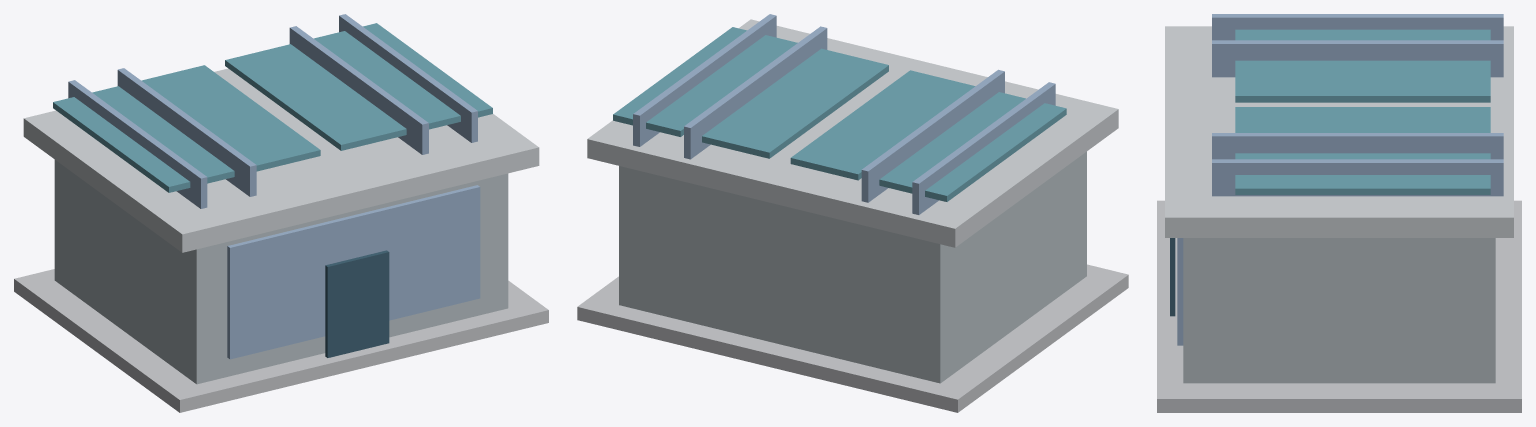
The model's file is solar-lab.glb.
3 renders of one model, left to right at view 1: azimuth 30°, elevation 25°; view 2: azimuth 150°, elevation 25°; view 3: azimuth 270°, elevation 25°, orthographic. The views are drawn at different scales.
Visible parts, largest first — view 1: Facade_2, Roof_5, Glass_3, Foundation_1, SolarPanel_12, SolarPanel_11, SolarPanel_10, Door_4, SolarPanel_13, RoofFins_7, RoofFins_8, RoofFins_6 (+1 smaller); view 2: Facade_2, Roof_5, Foundation_1, SolarPanel_12, SolarPanel_11, SolarPanel_10, SolarPanel_13, RoofFins_7, RoofFins_8, RoofFins_6, RoofFins_9; view 3: Facade_2, Roof_5, Foundation_1, SolarPanel_11, SolarPanel_13, RoofFins_7, SolarPanel_12, RoofFins_8, RoofFins_9, RoofFins_6, SolarPanel_10, Glass_3 (+1 smaller).
Part boxes in pixels (bbox=[...]): Facade_2: bbox=[54, 160, 508, 384]; Roof_5: bbox=[23, 68, 539, 252]; Glass_3: bbox=[227, 185, 480, 359]; Foundation_1: bbox=[14, 269, 548, 412]; SolarPanel_12: bbox=[225, 44, 406, 150]; SolarPanel_11: bbox=[141, 65, 320, 171]; SolarPanel_10: bbox=[53, 86, 234, 192]; Door_4: bbox=[325, 250, 389, 357]; SolarPanel_13: bbox=[314, 23, 492, 129]; RoofFins_7: bbox=[117, 68, 256, 196]; RoofFins_8: bbox=[289, 26, 428, 154]; RoofFins_6: bbox=[68, 80, 207, 208]; Facade_2: bbox=[619, 151, 1086, 383]; Roof_5: bbox=[587, 19, 1118, 247]; Foundation_1: bbox=[577, 264, 1128, 412]; SolarPanel_12: bbox=[702, 48, 888, 158]; SolarPanel_11: bbox=[790, 70, 975, 180]; SolarPanel_10: bbox=[879, 92, 1066, 201]; SolarPanel_13: bbox=[613, 27, 797, 136]; RoofFins_7: bbox=[861, 69, 1004, 202]; RoofFins_8: bbox=[684, 26, 827, 159]; RoofFins_6: bbox=[912, 82, 1055, 214]; RoofFins_9: bbox=[633, 14, 776, 146]; Facade_2: bbox=[1183, 238, 1495, 383]; Roof_5: bbox=[1165, 26, 1513, 237]; Foundation_1: bbox=[1157, 200, 1521, 412]; SolarPanel_11: bbox=[1235, 60, 1490, 102]; SolarPanel_13: bbox=[1235, 153, 1490, 194]; RoofFins_7: bbox=[1212, 40, 1503, 77]; SolarPanel_12: bbox=[1235, 107, 1490, 132]; RoofFins_8: bbox=[1212, 133, 1503, 159]; RoofFins_9: bbox=[1212, 159, 1503, 196]; RoofFins_6: bbox=[1212, 14, 1503, 40]; SolarPanel_10: bbox=[1235, 29, 1490, 40]; Glass_3: bbox=[1177, 238, 1183, 345].
Bounding box in the file's own units: 9 × 4.78 × 7.
